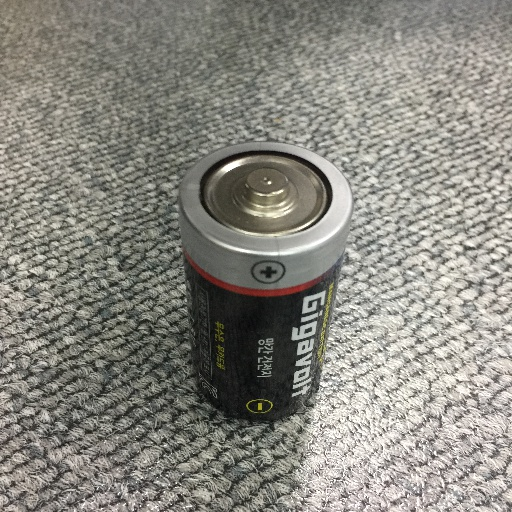Battery_0: (170, 128, 366, 434)
